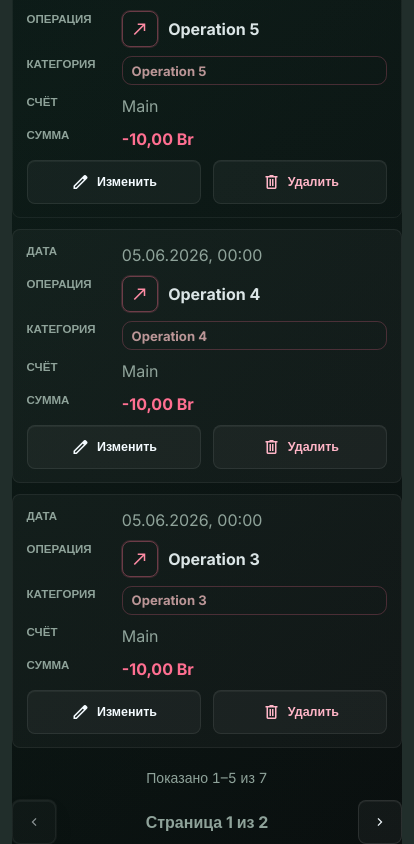
Test: TransactionJournalComponent › paginates transactions and resets when the page size changes
The image size is (414, 844).
(page scrolled)
Step 1. Click the button with test id "next-transactions-page" → (380, 822), box x1=358 y1=800 x2=402 y2=843
(page scrolled)
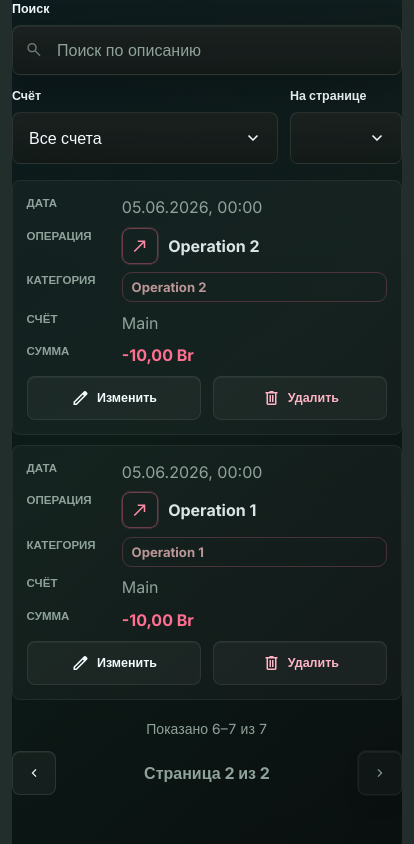
expect the text "Страница 2 из 2" is shown: met, box x1=144 y1=763 x2=270 y2=783
